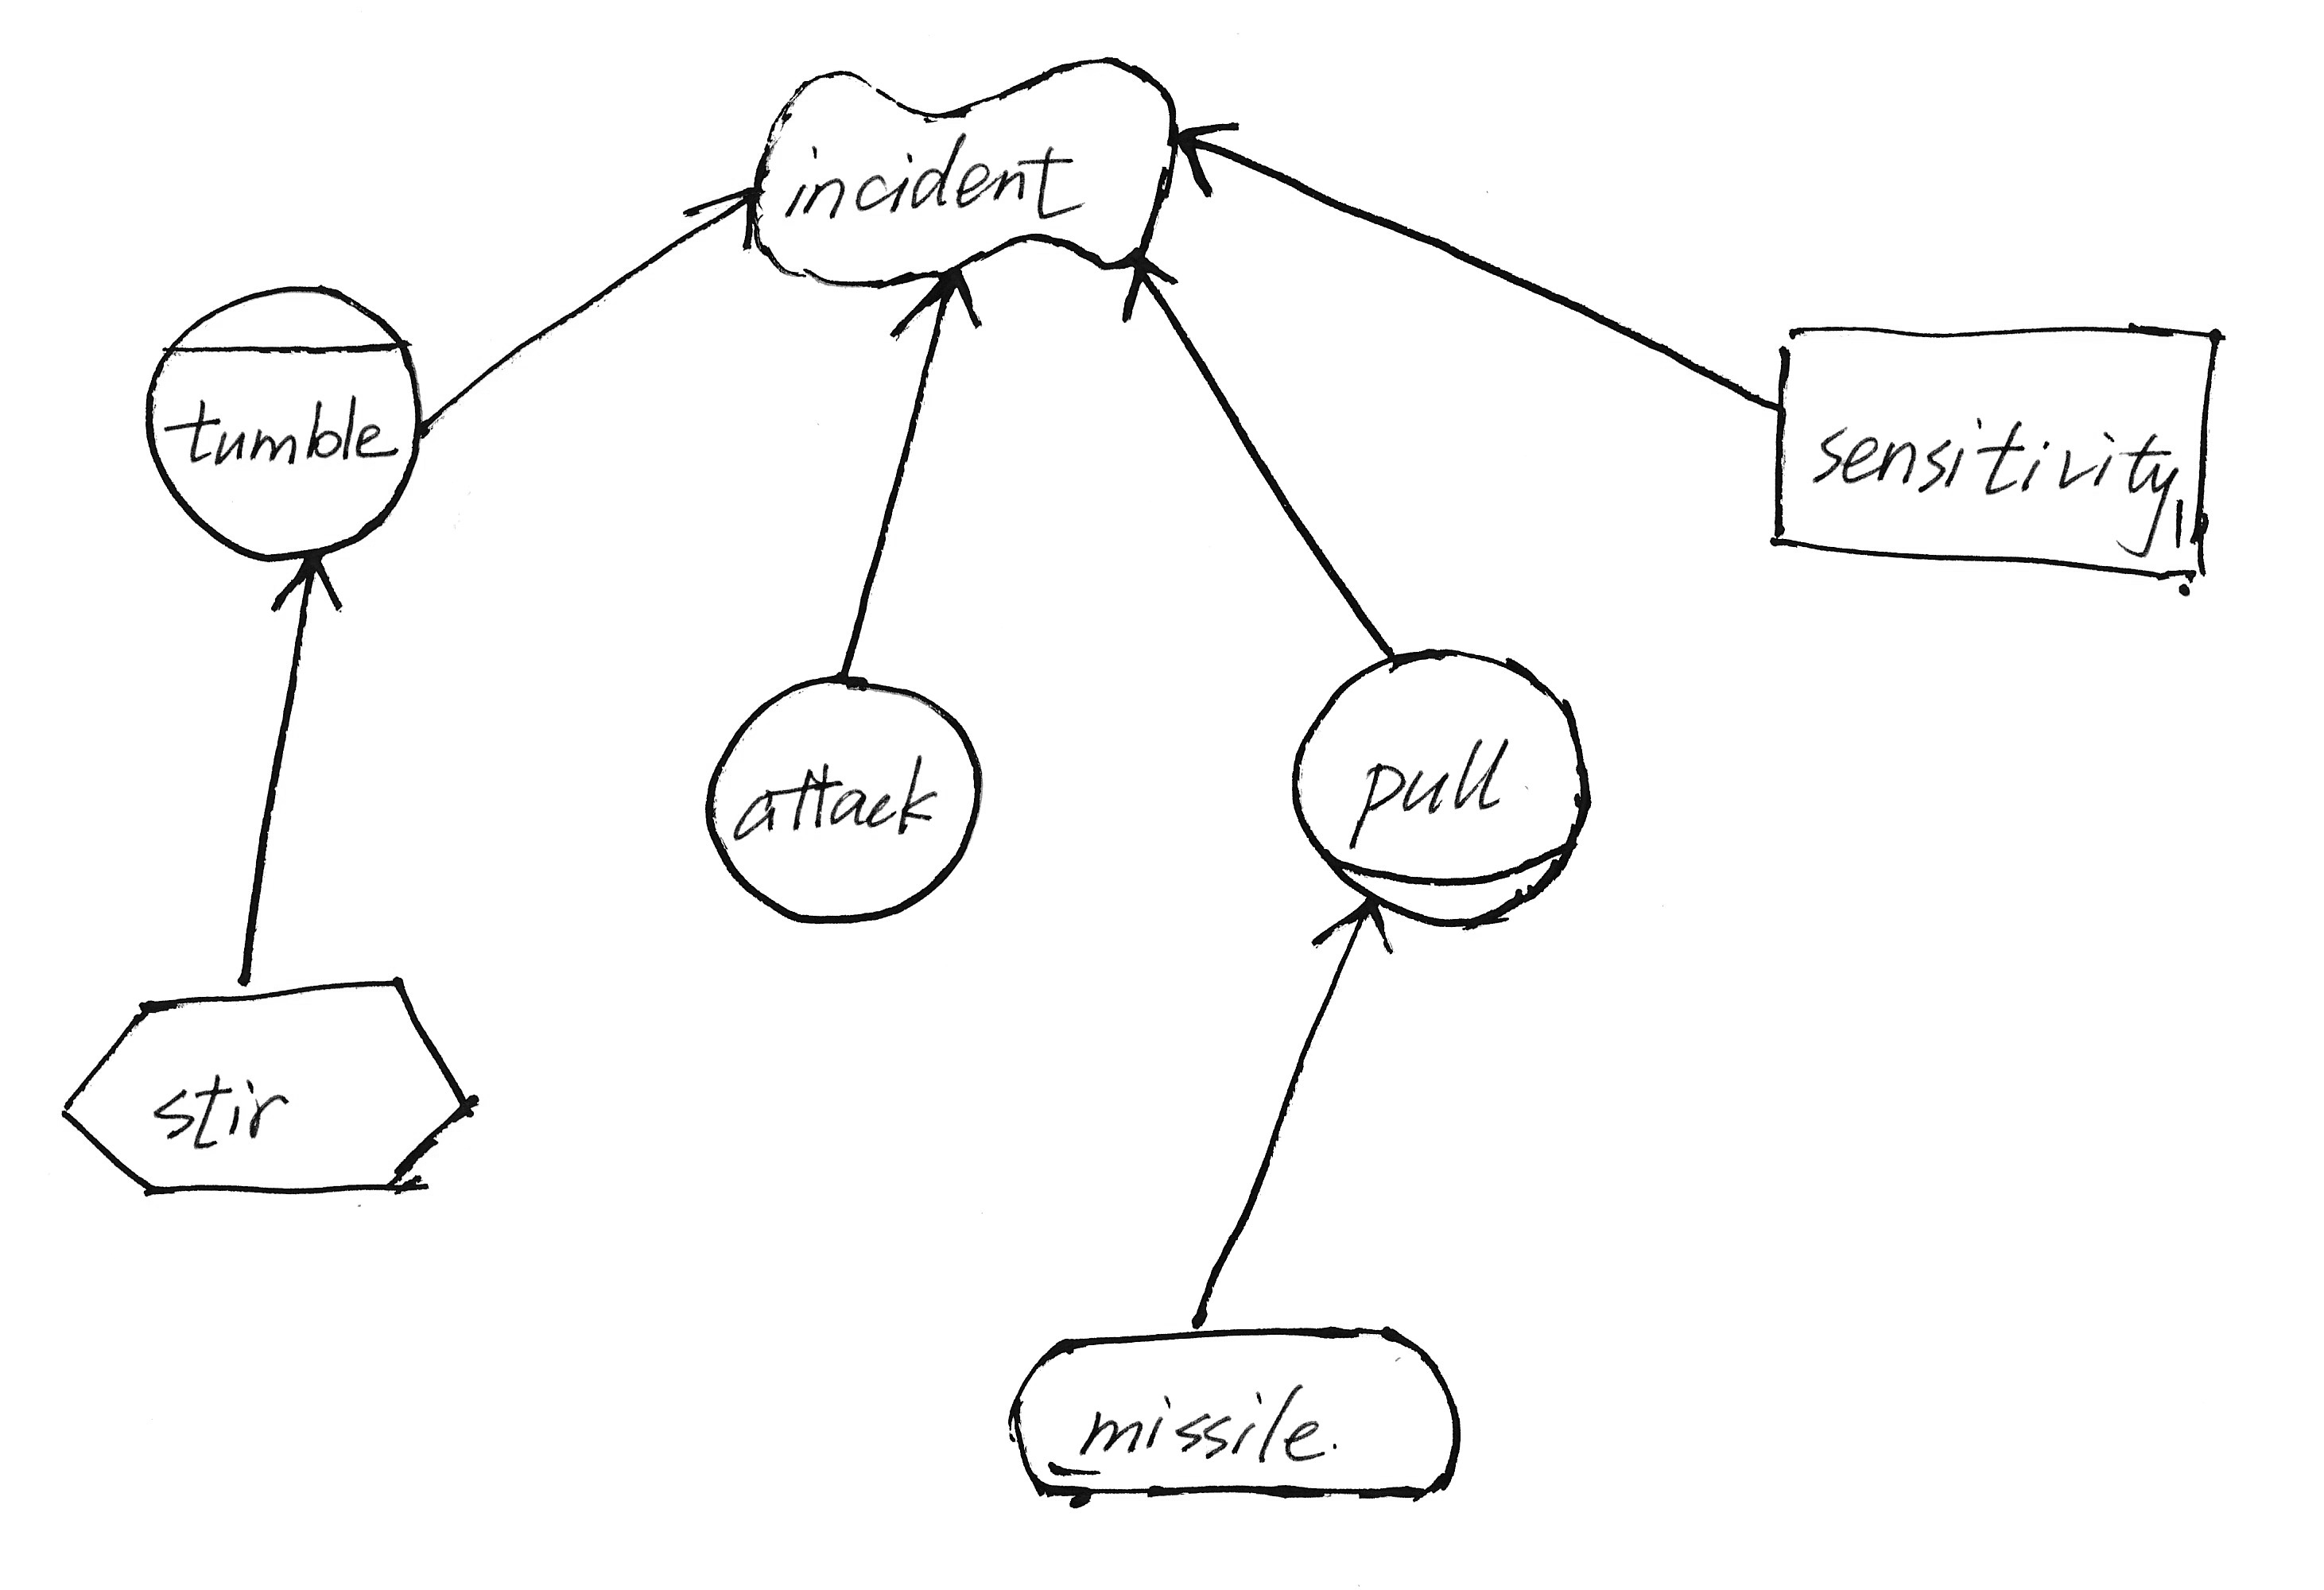actor: (685, 648, 998, 936)
agent: (134, 265, 436, 576)
arrow: (881, 254, 989, 341), (1158, 106, 1247, 201), (680, 177, 775, 261), (1113, 228, 1194, 327), (265, 532, 351, 618), (1310, 890, 1397, 966)
goal: (987, 1304, 1482, 1519)
quality: (731, 39, 1194, 302)
resource: (1748, 300, 2245, 610)
role: (1270, 631, 1614, 943)
task: (44, 954, 487, 1212)
